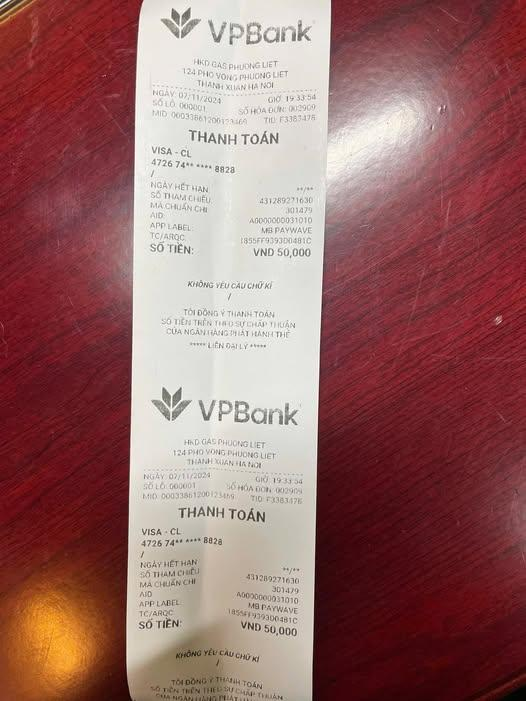receipt: (130, 373, 312, 650), (139, 4, 326, 273)
